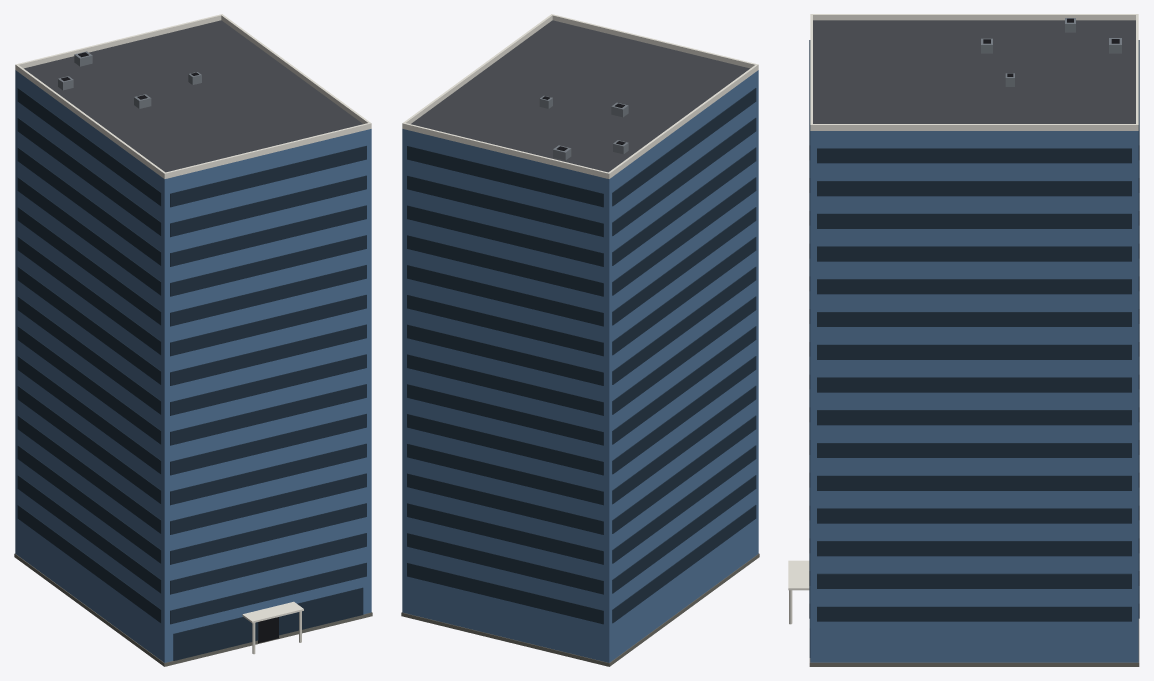
Rendered from tower_b.glb.
The picture shows the model from 3 angles, left to right: view 1: azimuth 30°, elevation 25°; view 2: azimuth 150°, elevation 25°; view 3: azimuth 270°, elevation 25°; orthographic projection. The views are drawn at different scales.
Parts seen in each view (by area): view 1: tower_b_Body; view 2: tower_b_Body; view 3: tower_b_Body.
Boxes of the visible parts, <box> form: tower_b_Body: <box>14,14,372,666</box>; tower_b_Body: <box>401,14,759,666</box>; tower_b_Body: <box>788,14,1139,666</box>.
Size of the model in its own units: 24.16 by 55 by 32.08.
